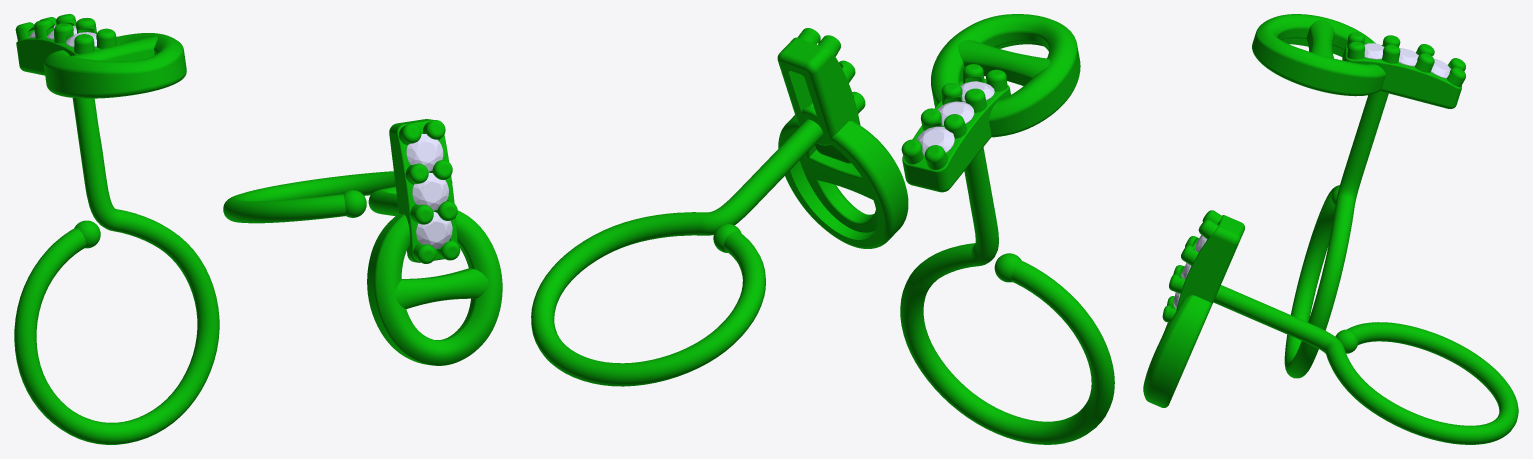
3 renders of one model, left to right at view 1: azimuth 30°, elevation 25°; view 2: azimuth 150°, elevation 25°; view 3: azimuth 270°, elevation 25°, orthographic. The views are drawn at different scales.
Visible parts, largest first — view 1: EAR-2509724.3dm; view 2: EAR-2509724.3dm; view 3: EAR-2509724.3dm.
Part boxes in pixels (left/top/right/bottom): EAR-2509724.3dm: left=14, top=14, right=502, bottom=444; EAR-2509724.3dm: left=531, top=14, right=1114, bottom=444; EAR-2509724.3dm: left=1143, top=14, right=1518, bottom=444.
Bounding box in the file's own units: 2.69 × 2.09 × 2.1.
